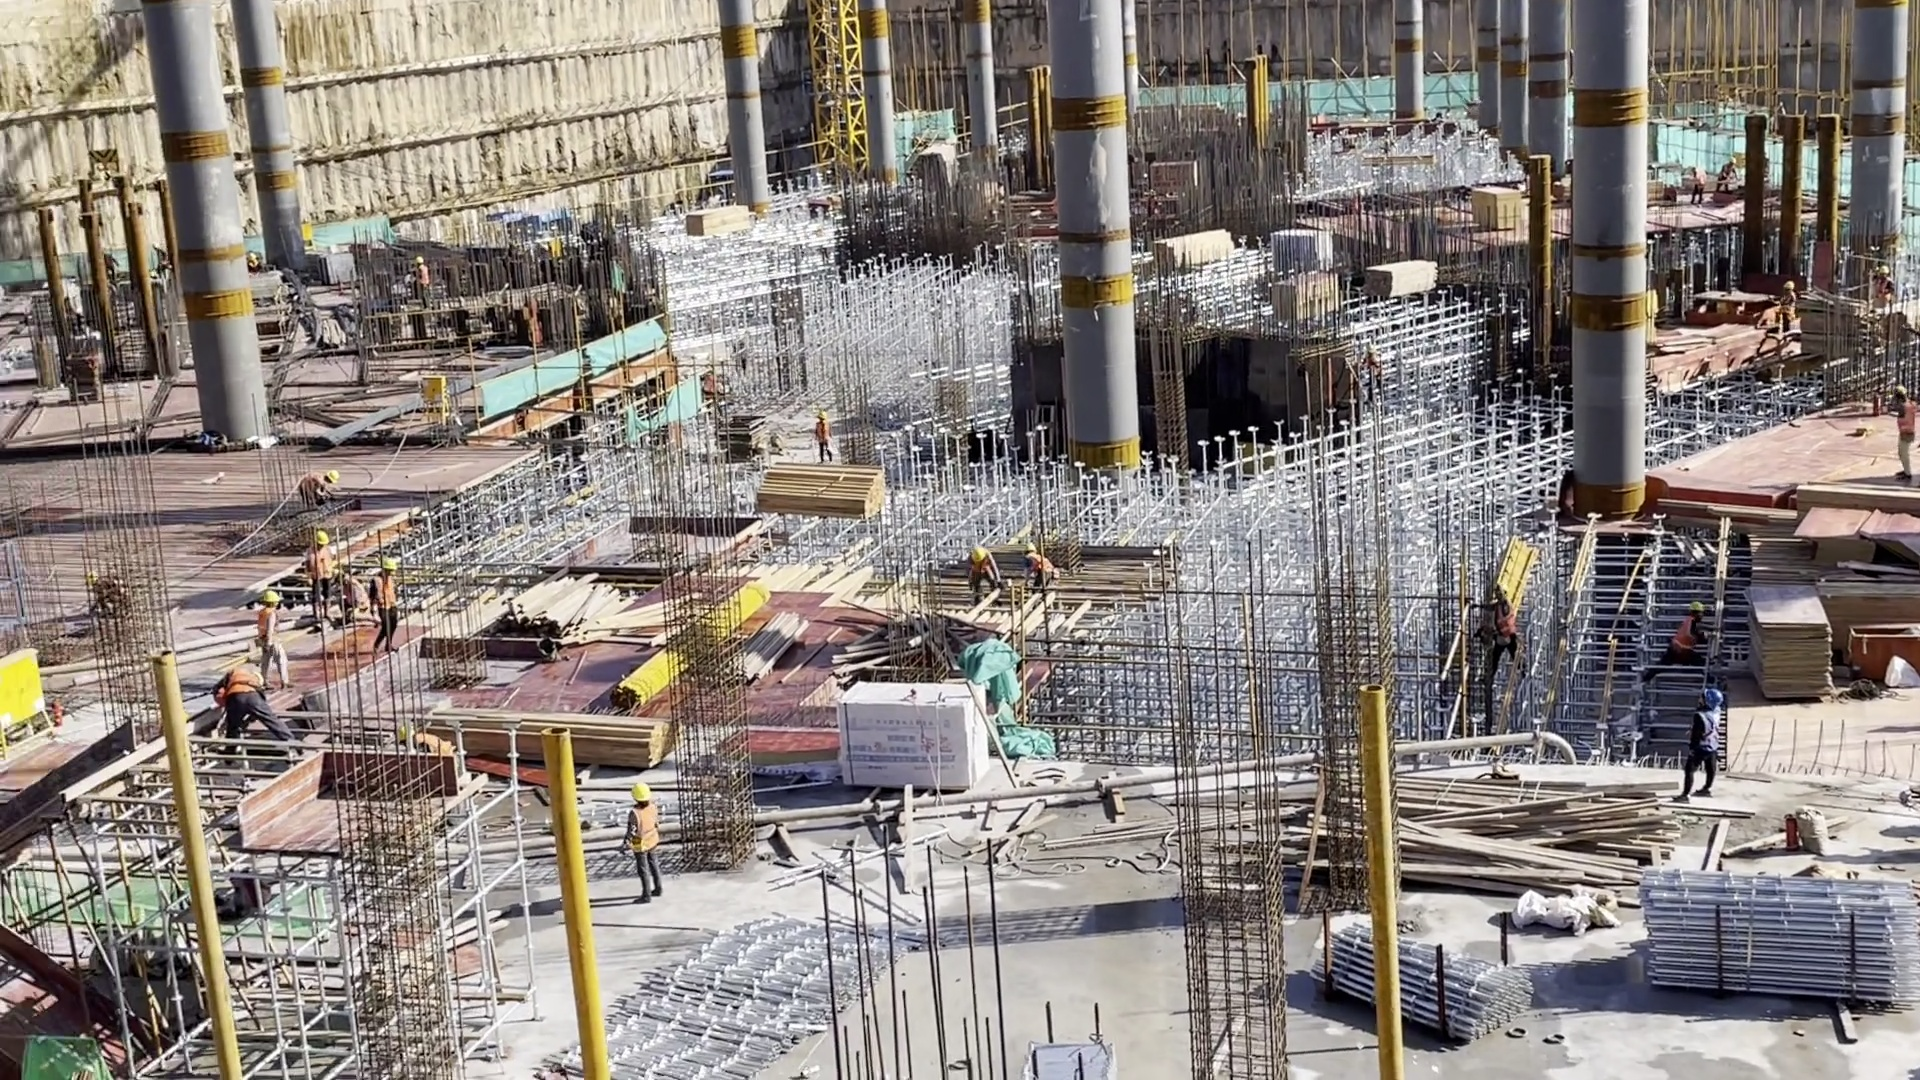board: (1740, 581, 1828, 701), (1801, 503, 1869, 577), (1271, 268, 1338, 319), (1473, 183, 1523, 232)
cutter: (1694, 284, 1775, 329)
ebox: (1, 646, 58, 745), (424, 372, 451, 424)
helmet: (1699, 686, 1727, 711), (630, 783, 655, 805), (970, 545, 986, 563), (397, 725, 412, 744), (381, 557, 398, 571), (311, 531, 330, 545), (262, 591, 278, 604), (1892, 386, 1908, 398), (1688, 601, 1704, 613), (1022, 542, 1037, 553), (327, 470, 338, 483), (1877, 267, 1890, 275), (1783, 280, 1795, 289), (818, 411, 827, 418)
person: (218, 666, 294, 742), (1480, 583, 1519, 707), (622, 779, 660, 910), (1684, 689, 1724, 796), (255, 587, 292, 693), (367, 560, 403, 655), (1655, 601, 1708, 666), (1890, 382, 1920, 483), (308, 527, 337, 628), (967, 543, 1001, 604), (1023, 541, 1057, 589), (298, 468, 338, 508), (1874, 262, 1897, 323), (1778, 279, 1797, 335), (814, 408, 832, 465), (415, 253, 433, 312), (1688, 161, 1707, 205)
scaffold: (545, 905, 872, 1080), (1643, 867, 1920, 999), (1308, 911, 1527, 1043)
vest: (620, 809, 656, 862), (1695, 706, 1723, 753), (222, 667, 259, 700), (1669, 617, 1699, 652), (414, 733, 457, 755), (307, 545, 334, 582), (370, 577, 398, 610), (258, 606, 279, 646), (299, 472, 327, 501), (1895, 402, 1915, 439), (1027, 554, 1054, 577), (1498, 602, 1516, 633), (1782, 294, 1796, 320), (1875, 277, 1891, 301), (816, 422, 830, 441)
wood: (1392, 770, 1676, 895), (438, 573, 665, 654), (395, 704, 674, 769), (745, 462, 890, 521), (1154, 228, 1237, 277), (1364, 258, 1437, 300), (690, 202, 752, 234)
